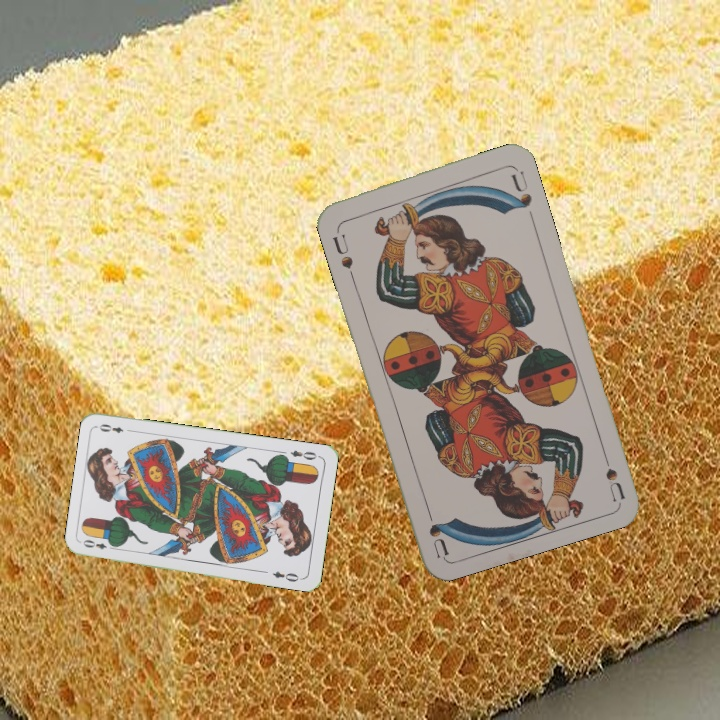EO: (79, 536, 119, 552), (286, 446, 319, 462)
SU: (597, 444, 628, 503), (328, 230, 357, 280)
